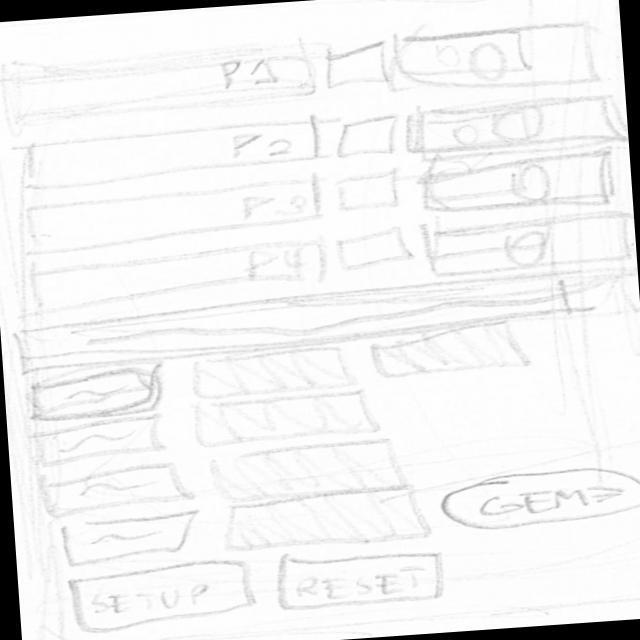button: (437, 456, 640, 540), (66, 553, 261, 638), (268, 542, 465, 621)
input: (18, 360, 181, 428), (20, 461, 199, 519), (47, 507, 205, 563), (33, 418, 173, 465)
